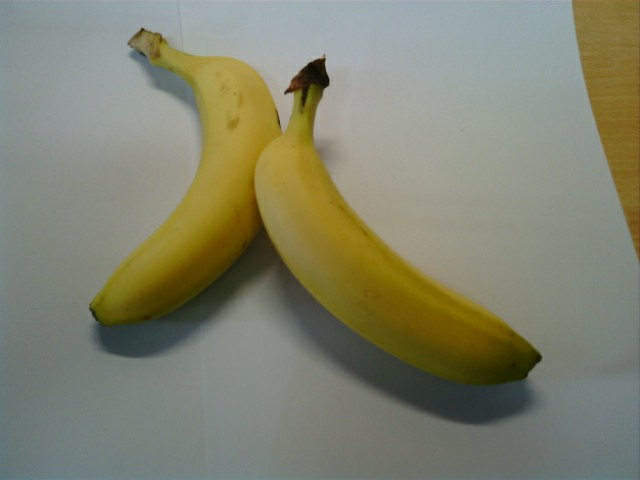fresh_banana: (254, 116, 538, 388), (88, 51, 277, 329)
